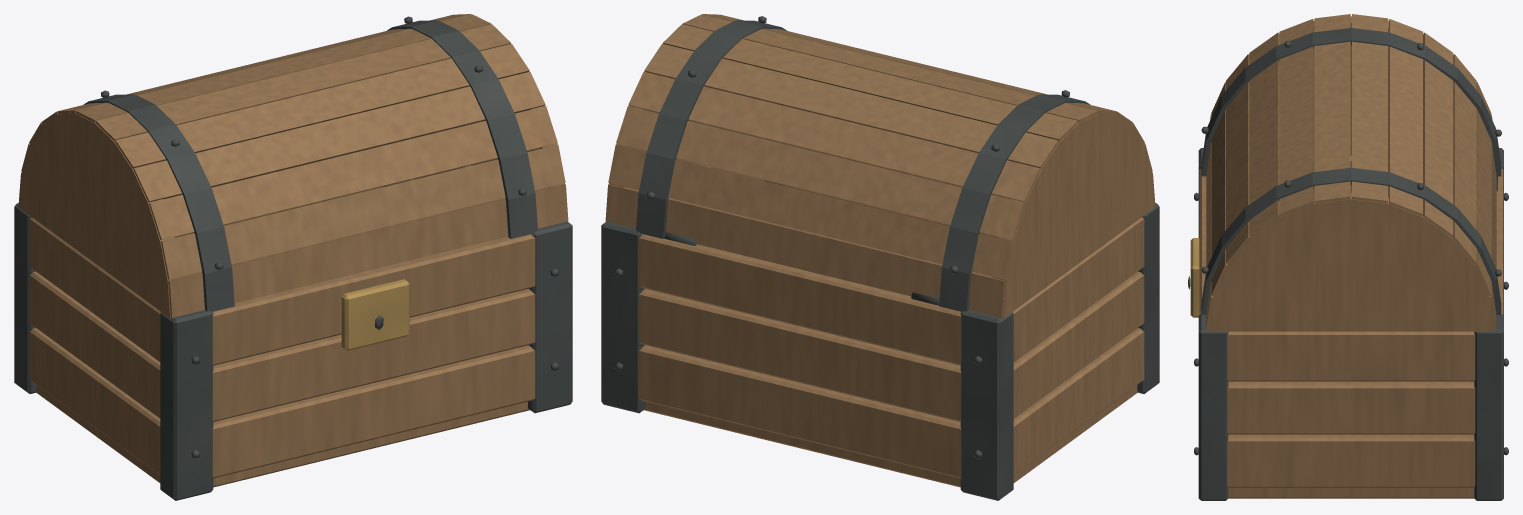
Rendered from treasure_chest.fbx.
3 renders of one model, left to right at view 1: azimuth 30°, elevation 25°; view 2: azimuth 150°, elevation 25°; view 3: azimuth 270°, elevation 25°, orthographic. The views are drawn at different scales.
Visible parts, largest first — view 1: treasure_chest_Lid, treasure_chest_Body; view 2: treasure_chest_Lid, treasure_chest_Body; view 3: treasure_chest_Lid, treasure_chest_Body.
Part boxes in pixels (left/top/right/bottom): treasure_chest_Lid: left=18, top=14, right=568, bottom=318; treasure_chest_Body: left=14, top=165, right=572, bottom=500; treasure_chest_Lid: left=605, top=14, right=1155, bottom=318; treasure_chest_Body: left=601, top=165, right=1159, bottom=500; treasure_chest_Lid: left=1201, top=14, right=1501, bottom=331; treasure_chest_Body: left=1188, top=148, right=1508, bottom=500.
Size of the model in its own units: 0.645 by 0.502 by 0.475.
1 material, 1 textured.
